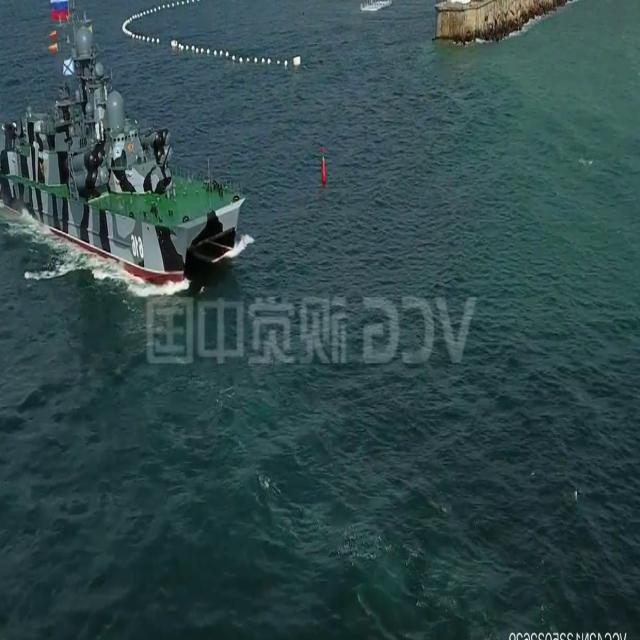navalvessels: (0, 0, 252, 286)
